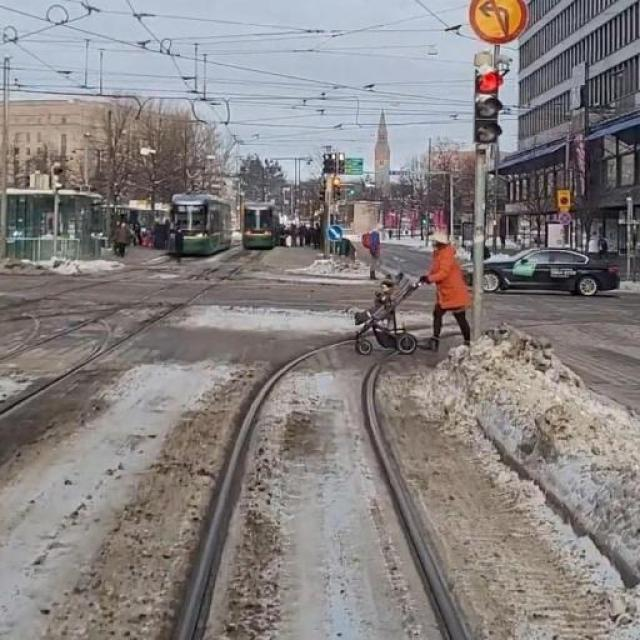Other_objects: (350, 270, 417, 356)
people: (428, 231, 474, 352)
vehicle: (467, 239, 620, 299)
